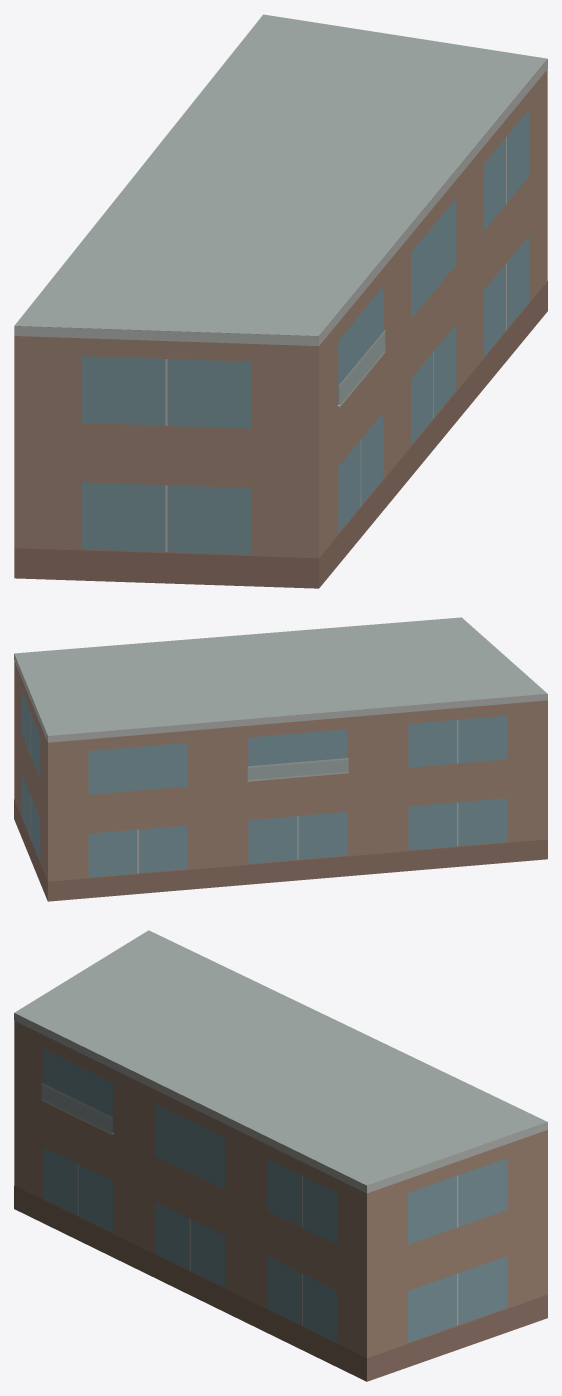
File: survey-upis-32915013.glb
The picture shows the model from 3 angles, top to bottom: view 1: azimuth 30°, elevation 25°; view 2: azimuth 150°, elevation 25°; view 3: azimuth 270°, elevation 25°; orthographic projection. The views are drawn at different scales.
Visible parts, largest first — view 1: survey-upis-32915013.tmp; view 2: survey-upis-32915013.tmp; view 3: survey-upis-32915013.tmp.
Part boxes in pixels (x1,y1,x2,y2): survey-upis-32915013.tmp: (14, 14, 547, 588); survey-upis-32915013.tmp: (14, 617, 547, 901); survey-upis-32915013.tmp: (14, 930, 547, 1381).
Size of the model in its own units: 17.05 by 6.1 by 15.06.
